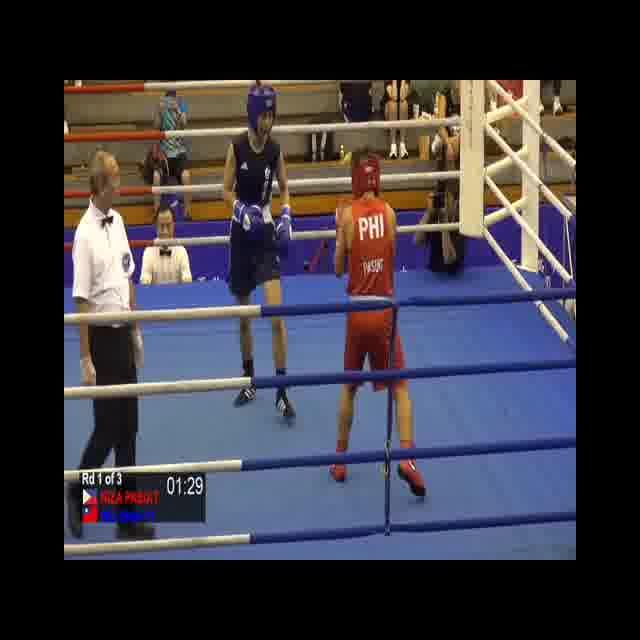blue-player: (220, 82, 298, 422)
red-player: (325, 144, 428, 502)
referee: (65, 148, 159, 544)
